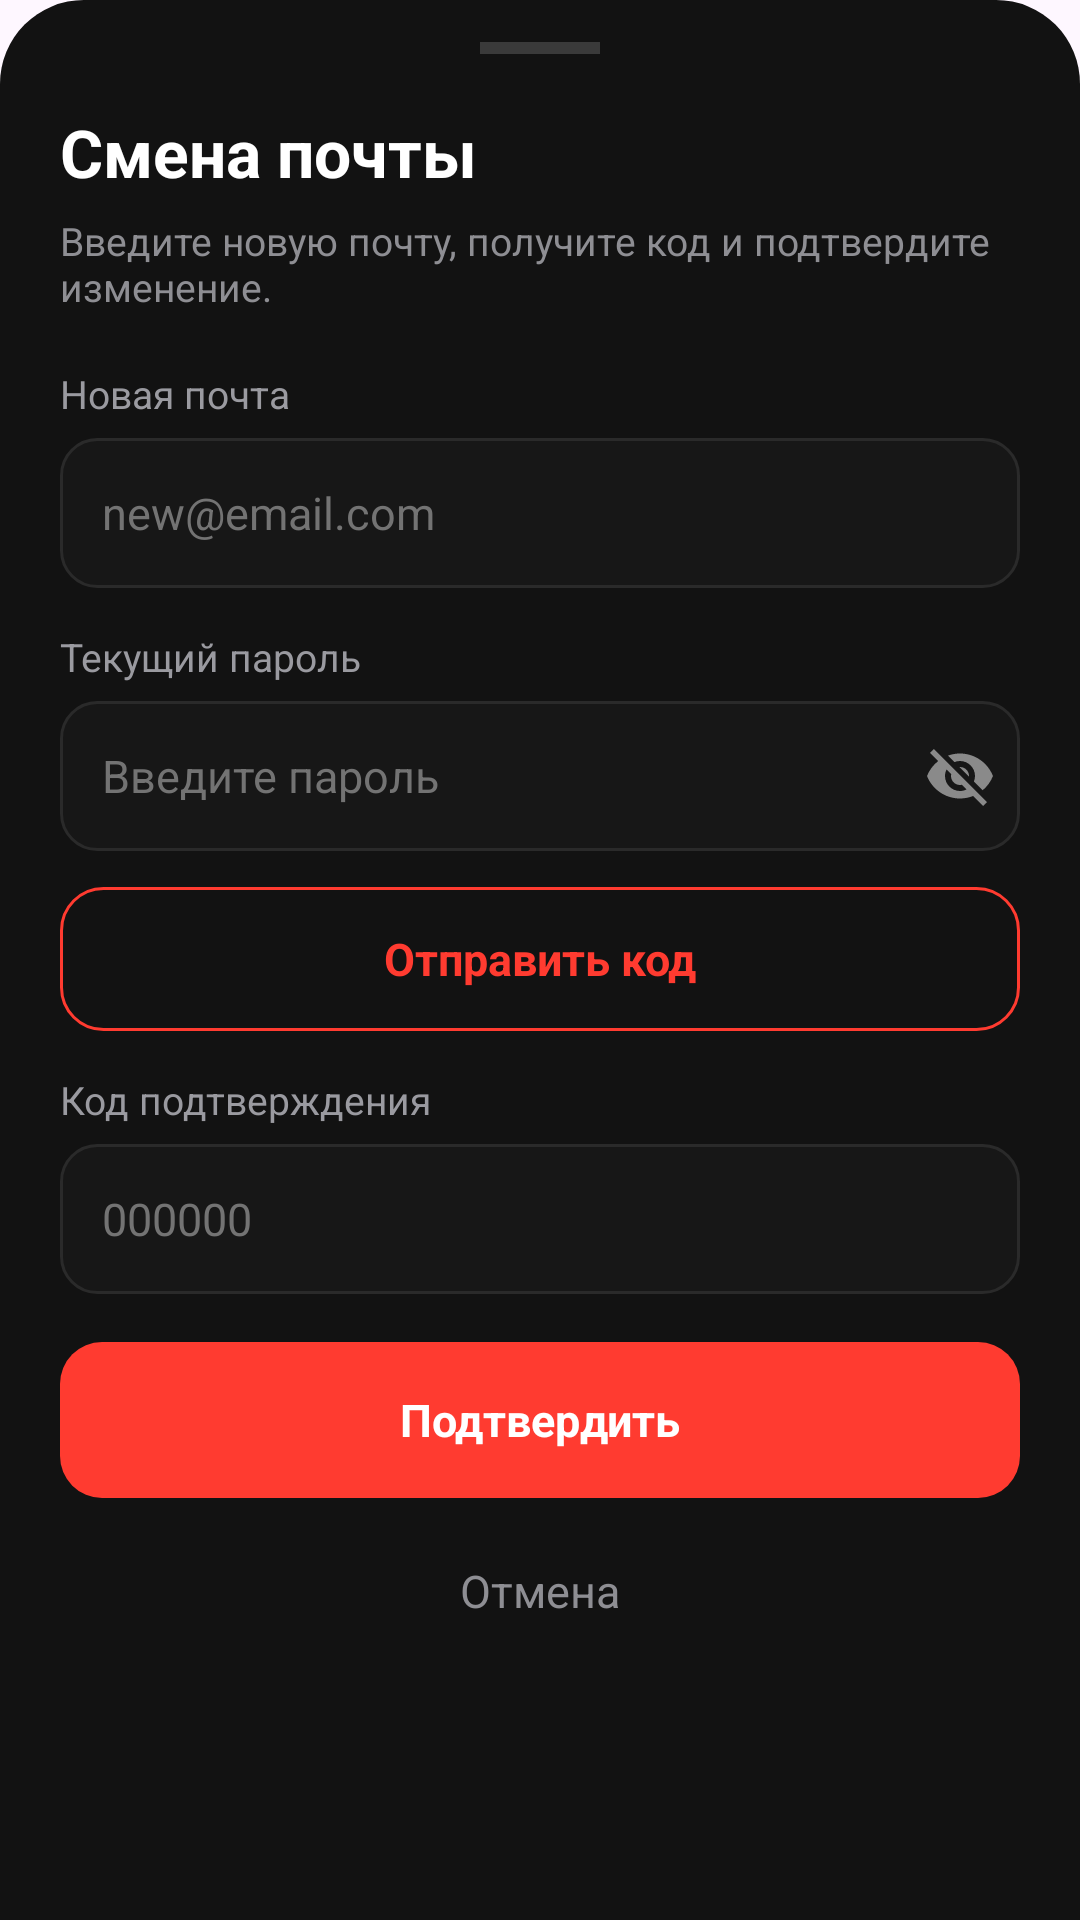

Icons on this 1080 × 1920 Android screen, each with the point to tap as (x=x, y=y):
Показать пароль: (x=960, y=777)
